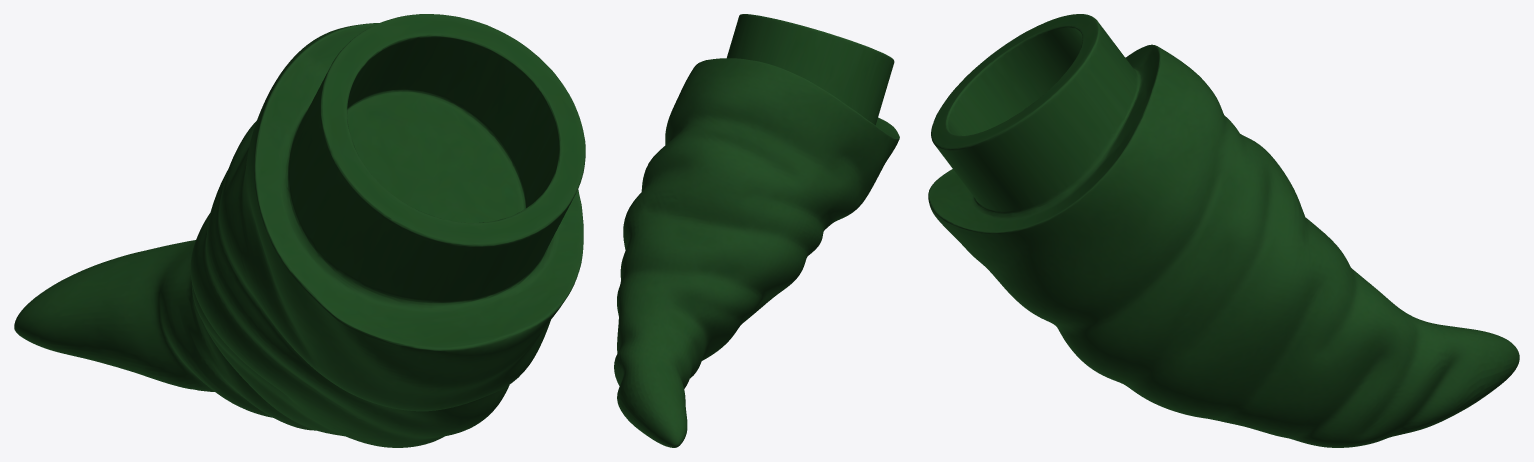
Rendered from Queue_Tortue.glb.
3 views of the same model, side by side, from view 1: azimuth 30°, elevation 25°; view 2: azimuth 150°, elevation 25°; view 3: azimuth 270°, elevation 25° (orthographic). The views are drawn at different scales.
Parts seen in each view (by area): view 1: Queue_Tortue; view 2: Queue_Tortue; view 3: Queue_Tortue.
Part boxes in pixels (x1=…): Queue_Tortue: x1=14, y1=14, x2=585, y2=447; Queue_Tortue: x1=614, y1=14, x2=899, y2=447; Queue_Tortue: x1=928, y1=14, x2=1519, y2=447.
Bounding box in the file's own units: 0.9208 × 1.55 × 2.09.
